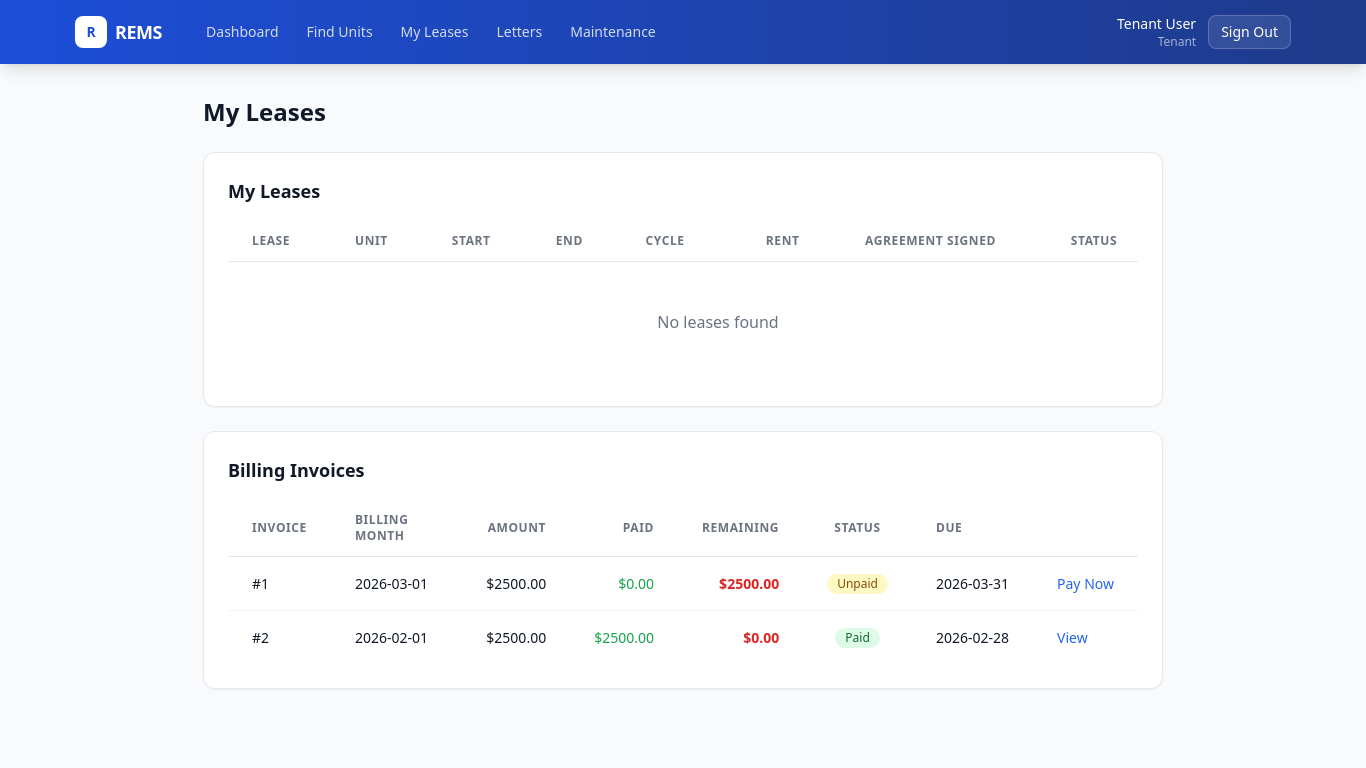
it: TC-11: My Invoices page › opens invoice detail modal with line items when Pay Now is clicked
Click the button "Pay Now" at (1086, 584), box [1057,574,1114,594]
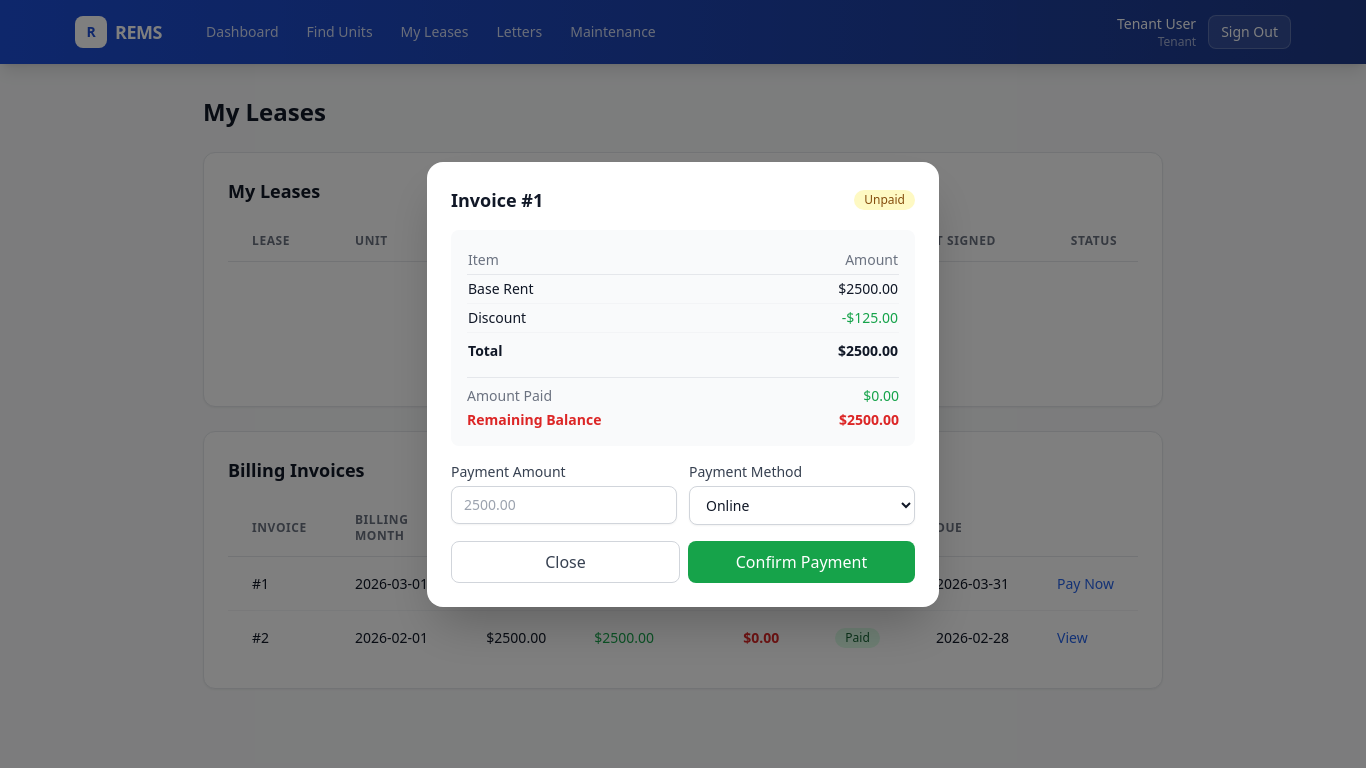
expect the heading "Invoice #1" is shown: met, box [451,186,543,214]
expect the text "Base Rent" is shown: met, box [467,274,692,303]
expect the text "Discount" is shown: met, box [467,303,692,332]
